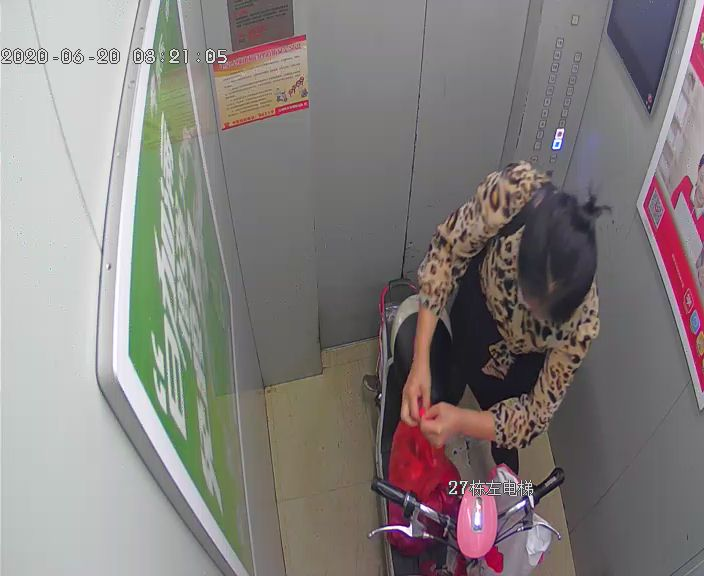Electric-bicycle: (369, 286, 562, 576)
